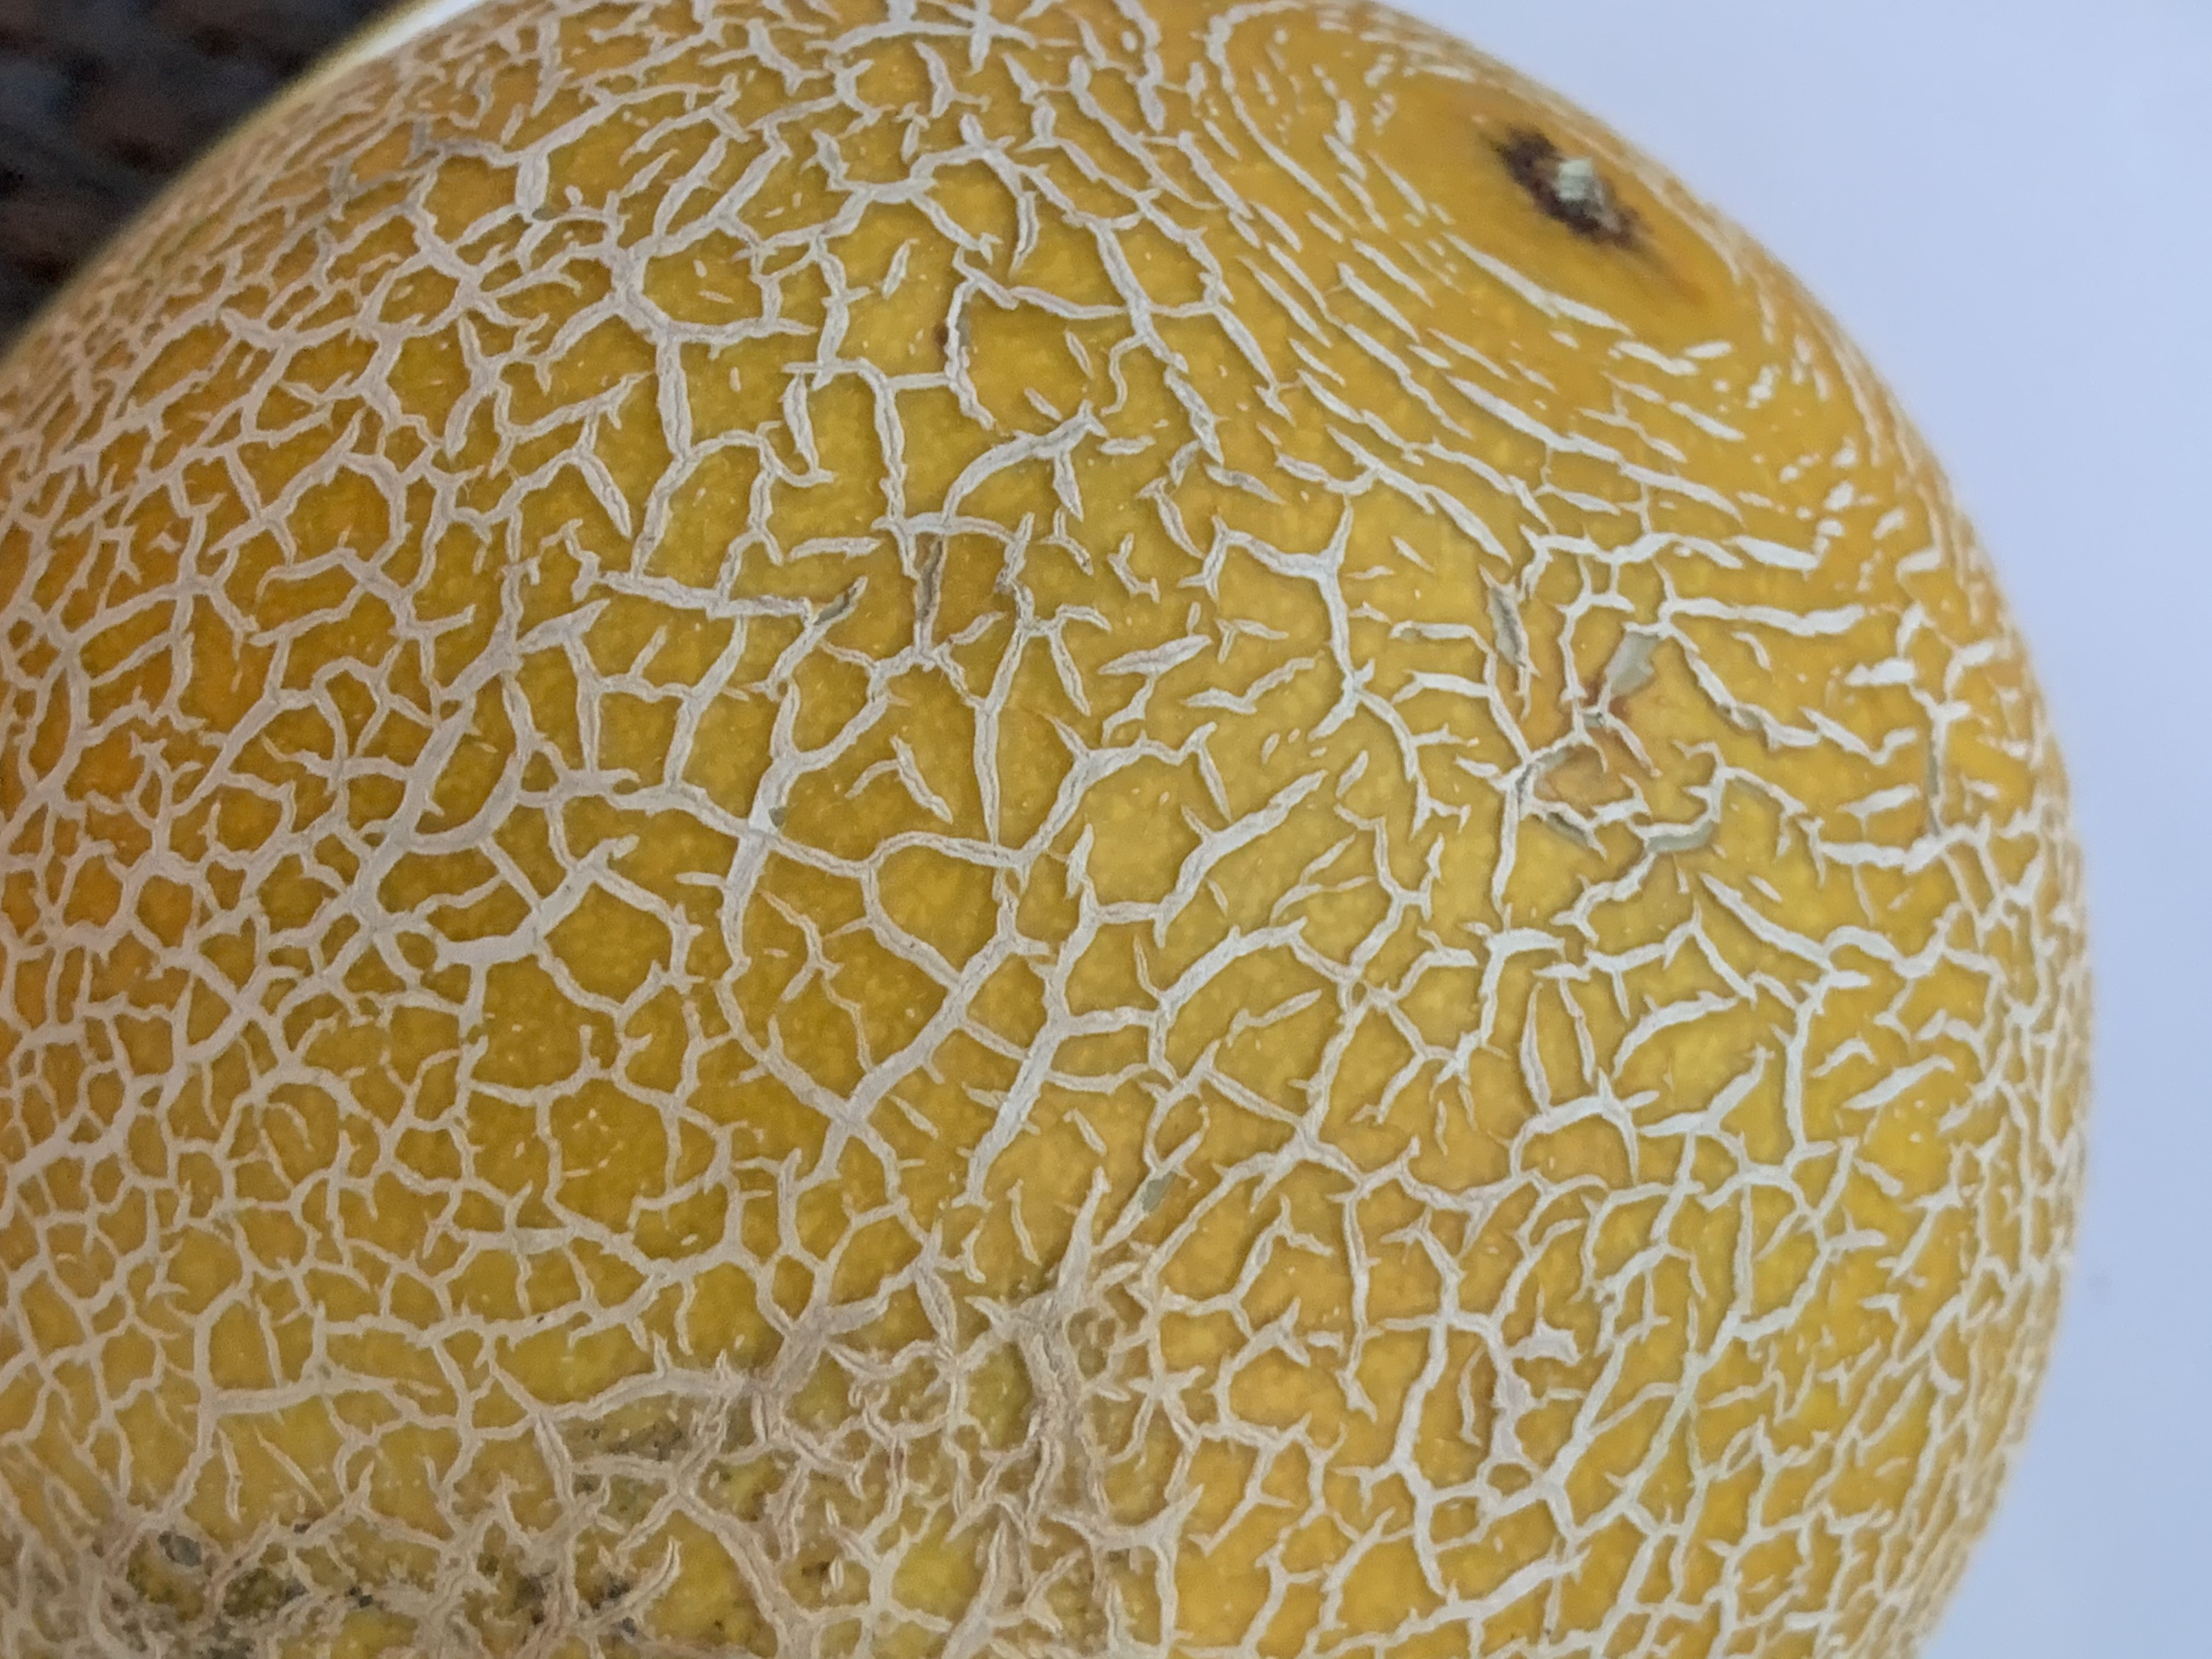galia melon: (16, 14, 2179, 1659)
